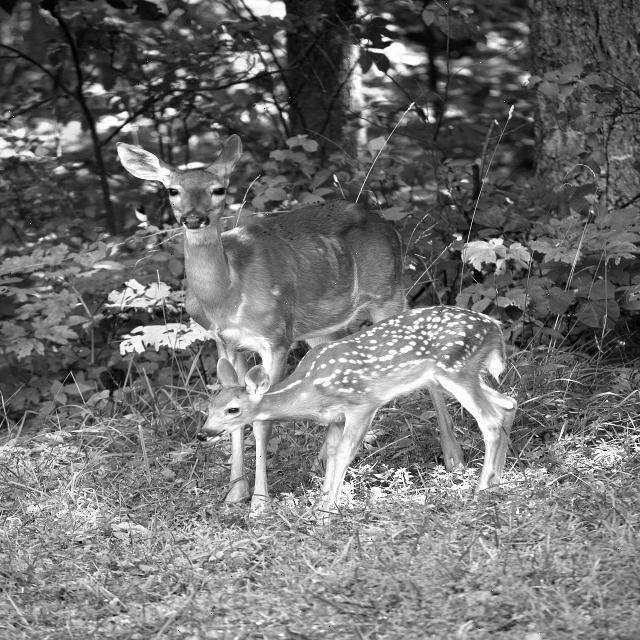deer: (94, 129, 271, 245), (177, 353, 280, 453)
